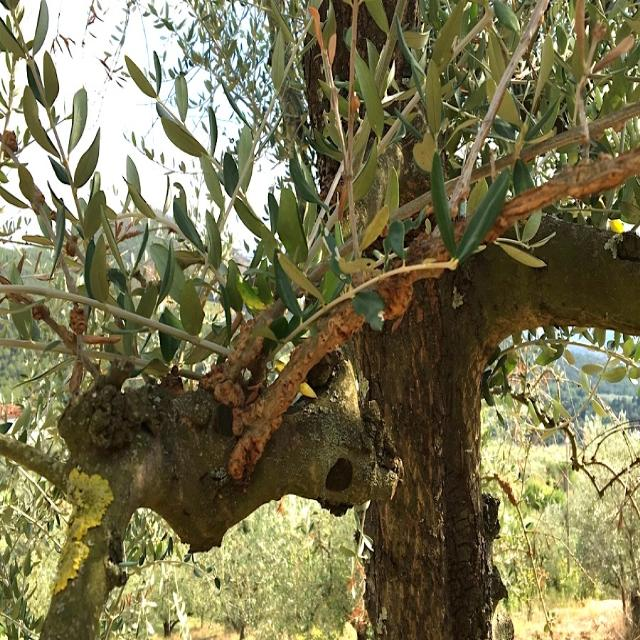Tuberculosis: (228, 302, 362, 480), (199, 321, 266, 407), (375, 267, 447, 326), (69, 303, 87, 334), (0, 129, 17, 159), (64, 237, 78, 257)
